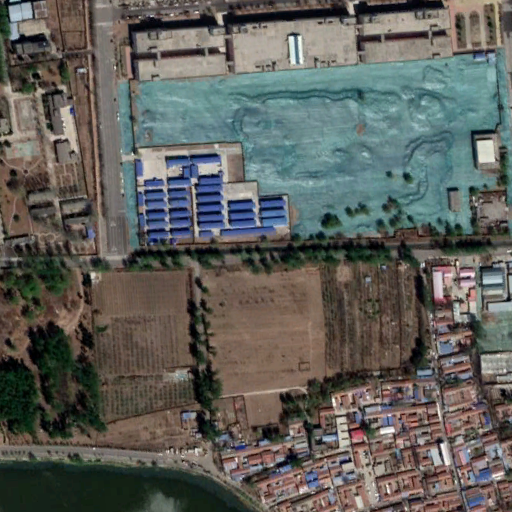cw: (115, 49, 512, 246), (475, 309, 512, 353)
